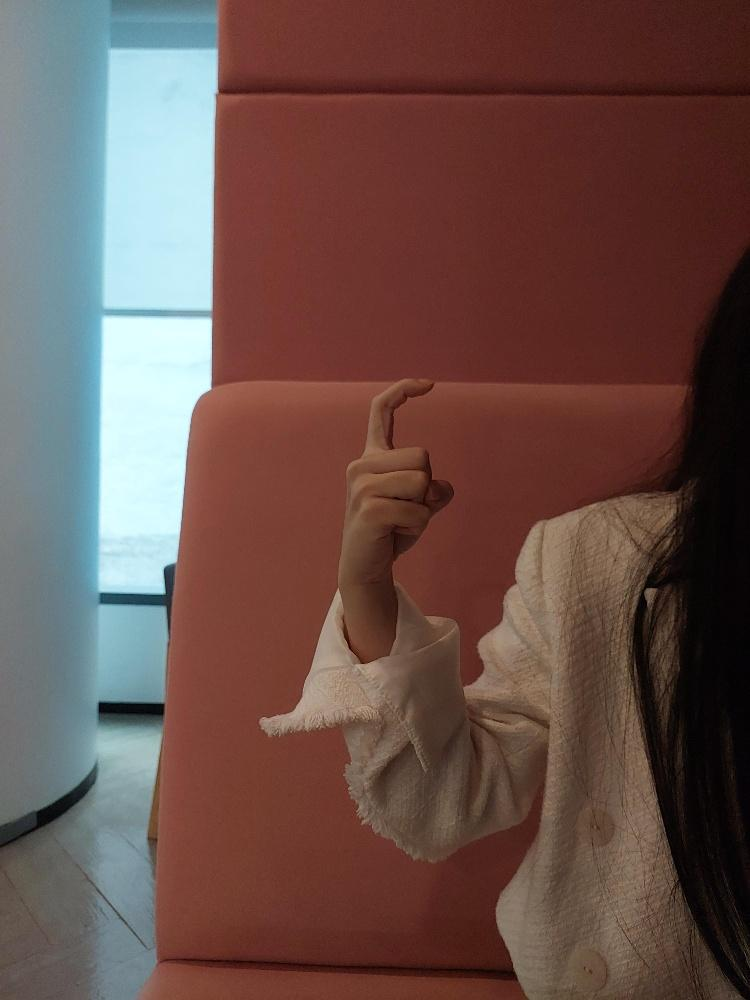x: (346, 376, 451, 562)
